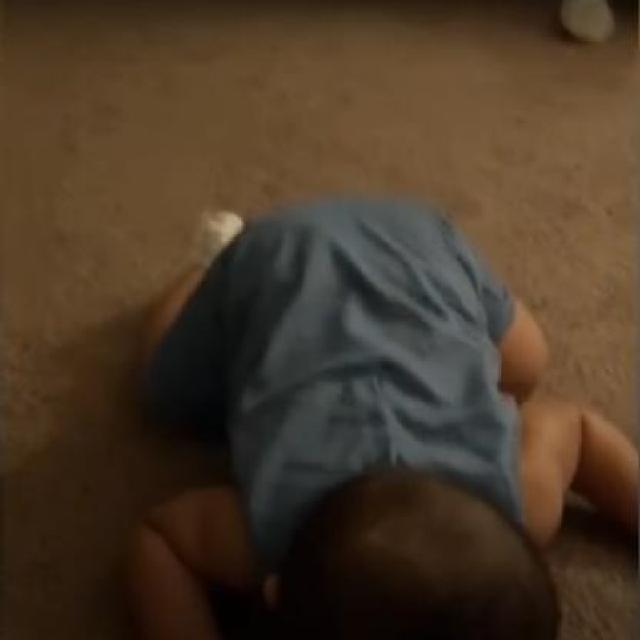baby: (121, 196, 637, 638)
